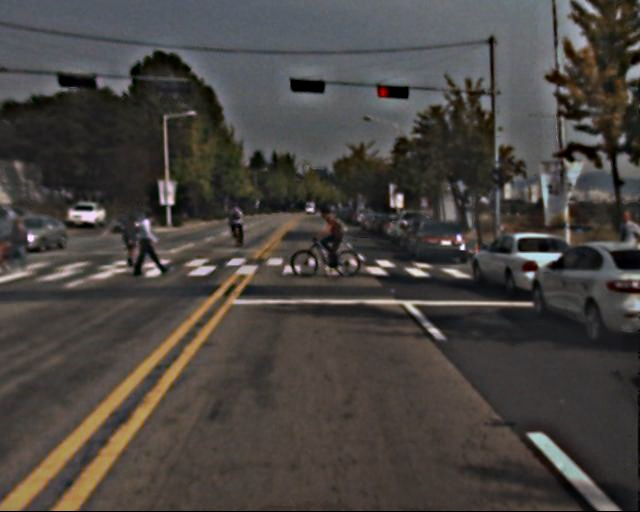person: (135, 204, 165, 277), (321, 208, 350, 273), (12, 216, 46, 263), (122, 215, 143, 265), (228, 205, 248, 247)
